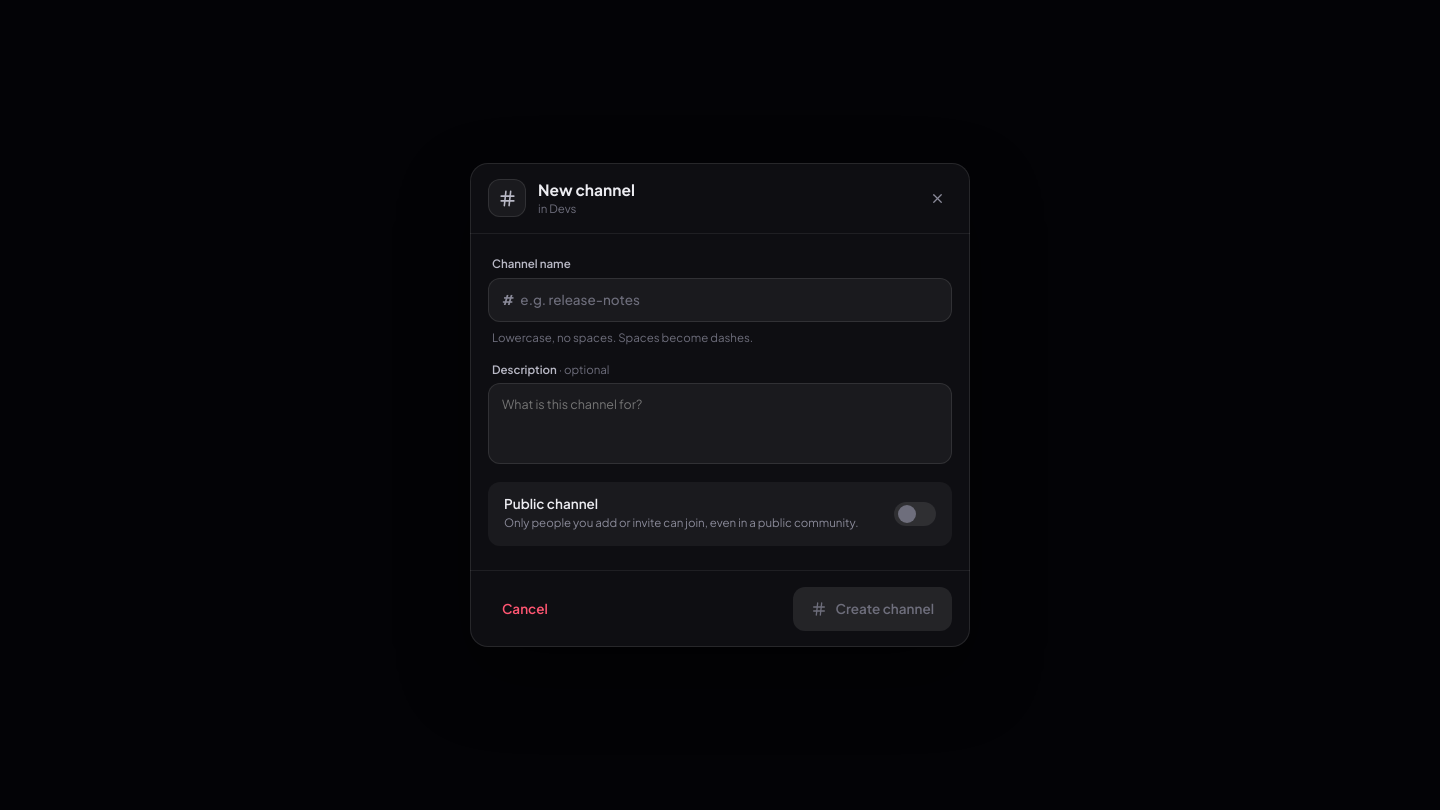
Test: NewChannelDialog › failure keeps the form and shows the error
Type "Release Notes" into the field labelled "Channel name # Lowercase, no spaces. Spaces become dashes." at (728, 300), box 518,277 -> 938,323
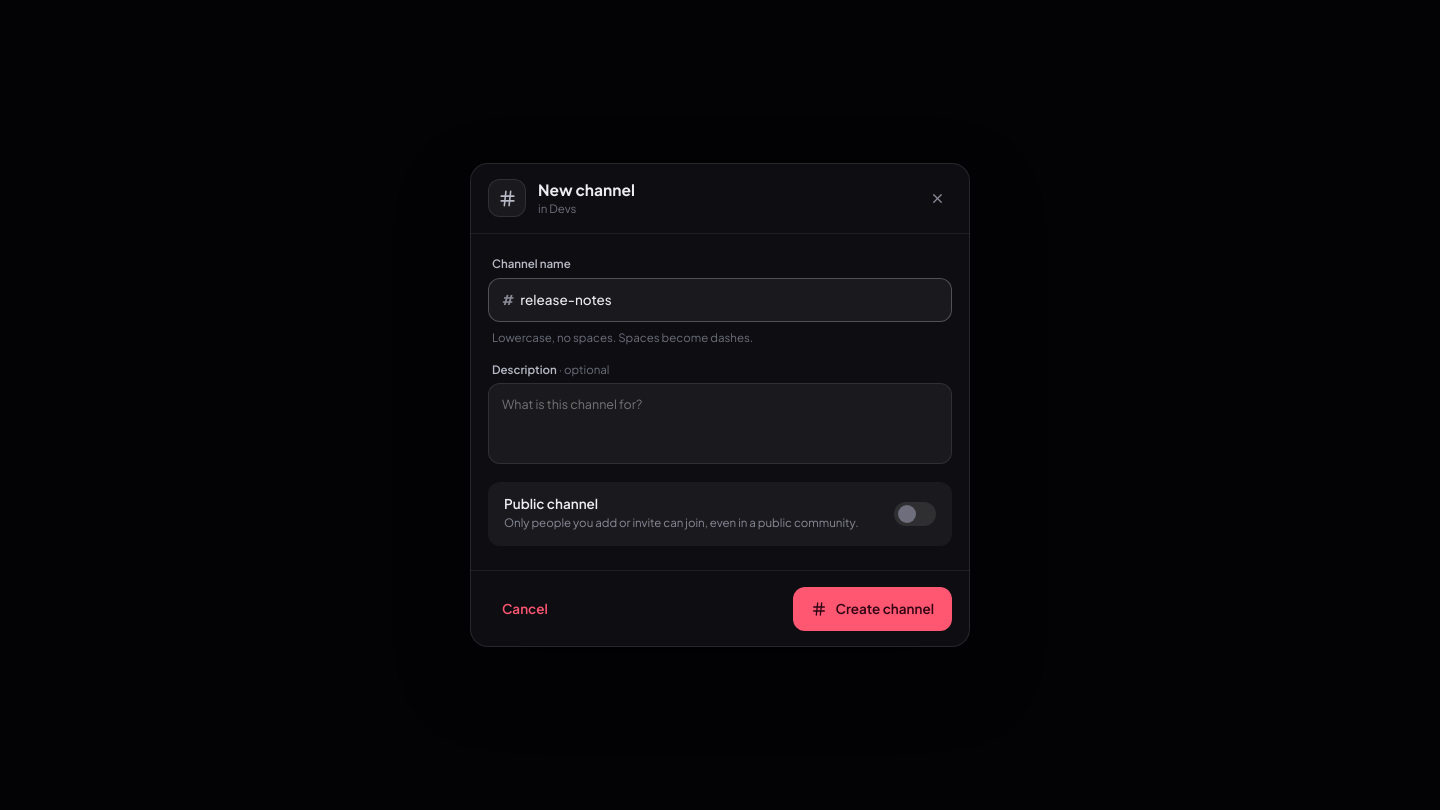
Click the button with class "cta" at (873, 609), box 794,587 -> 952,631
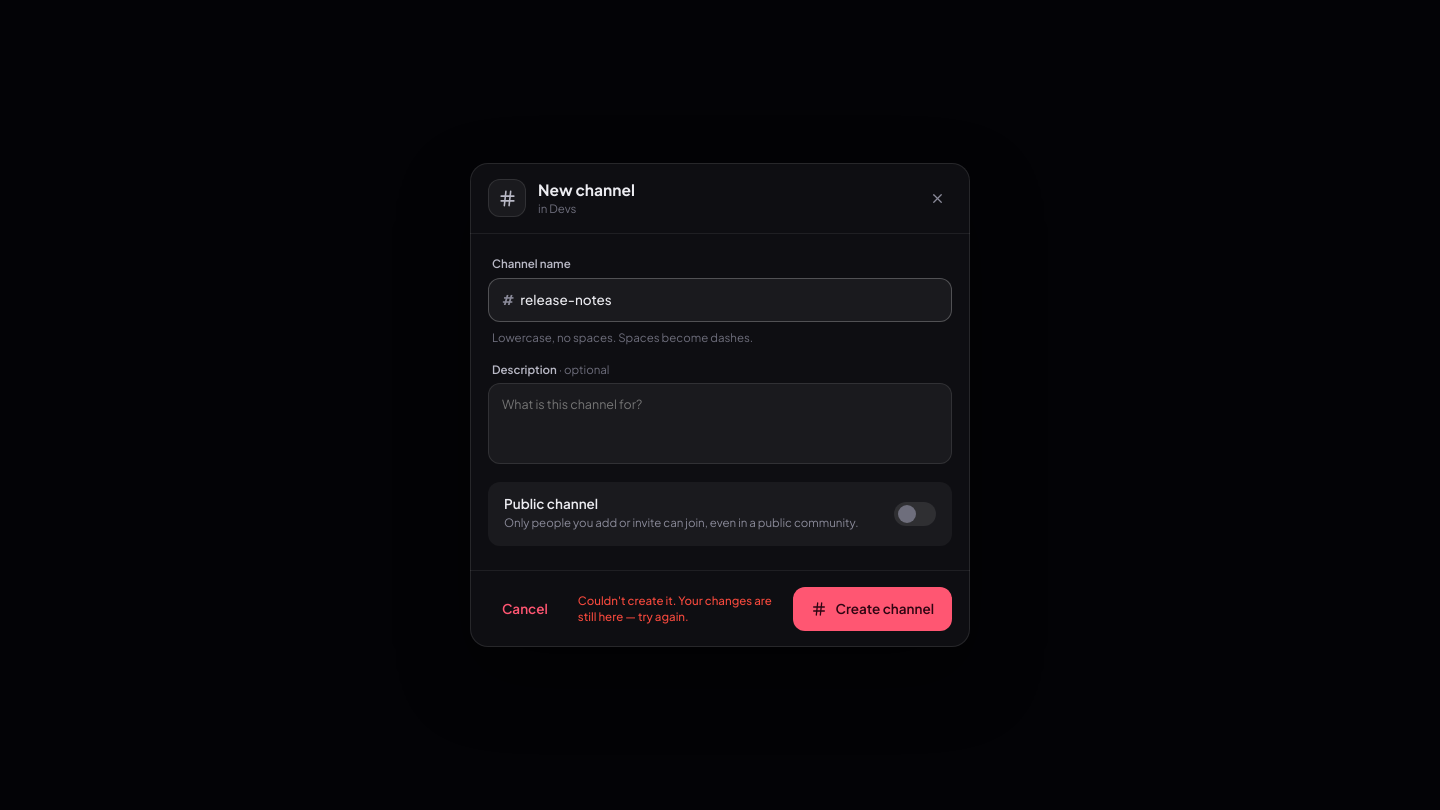
Expected: the field labelled "Channel name # Lowercase, no spaces. Spaces become dashes." holds "release-notes", 518,277 -> 938,323
Expected: the message "Couldn't create it. Your changes are still here — try again." is shown, 578,592 -> 785,625
